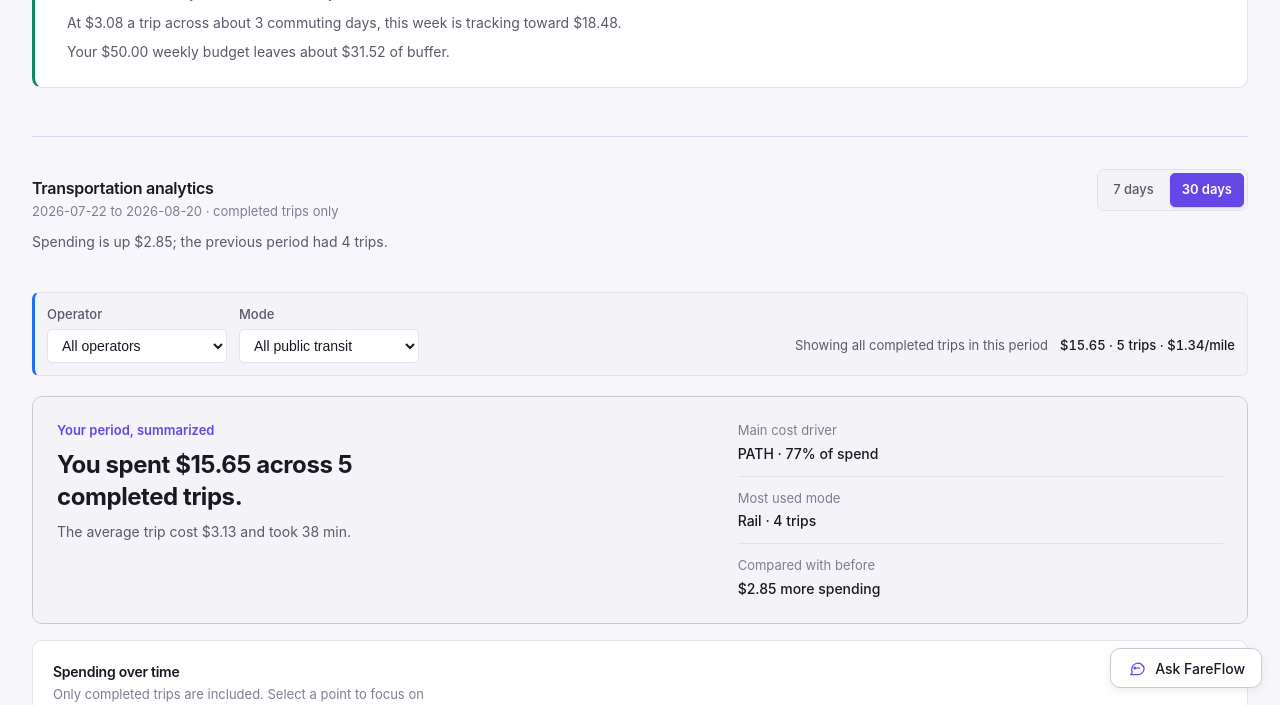
InsightsPage › cross-filters all dashboard metrics by operator
(page scrolled)
Expected: the heading "Transportation analytics" is shown, [32,178,214,198]
Select "NYC Bus" in the dropdown named "filter by operator" at (137, 346), box [47,329,227,363]
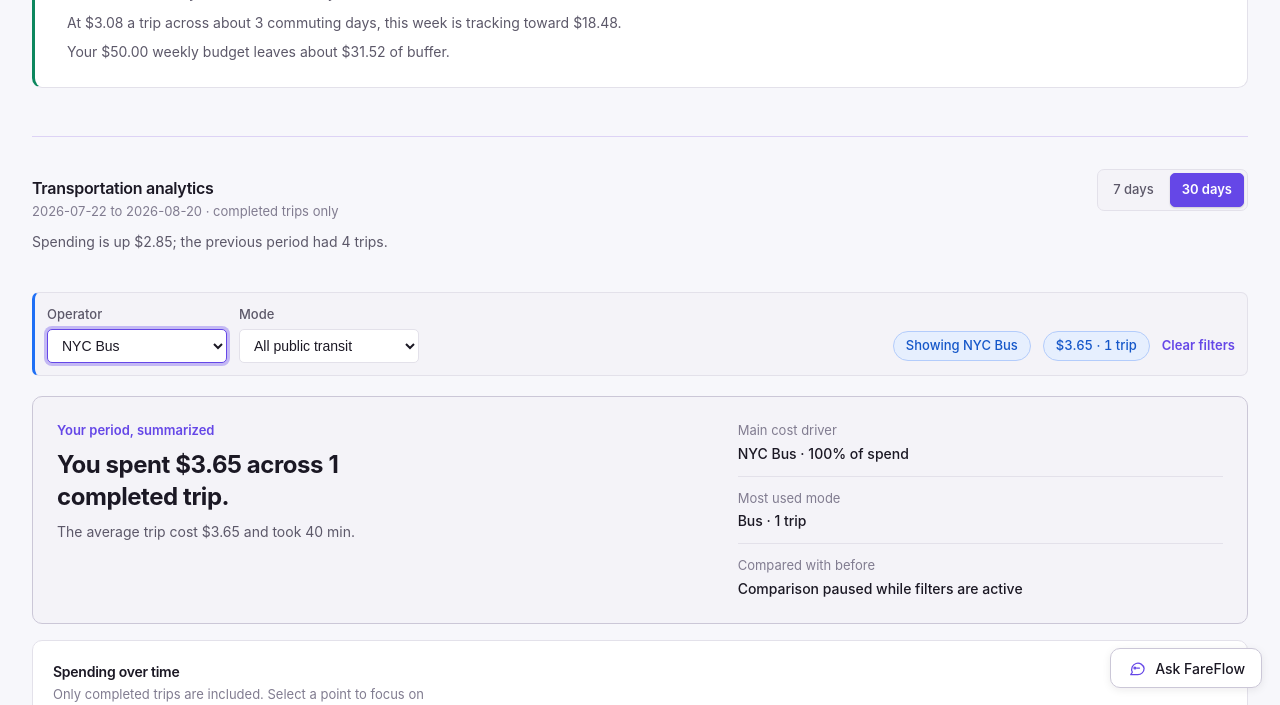
Result: the text "Showing NYC Bus" is shown at [893,331,1031,361]
Result: the text "$3.65 · 1 trip" is shown at [1043,331,1150,361]
Click the button "Clear filters" at (1198, 346), box [1162,332,1235,360]
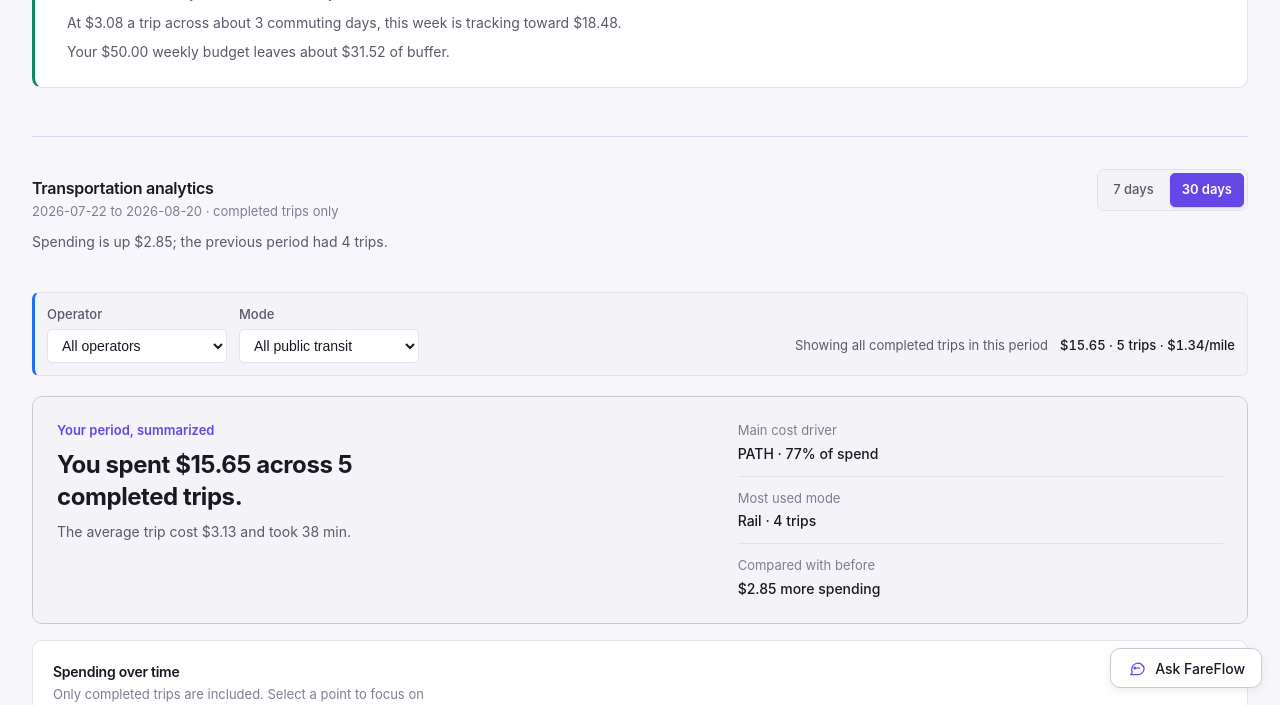
Result: the text "Showing all completed trips in this period" is shown at [795,336,1048,356]
